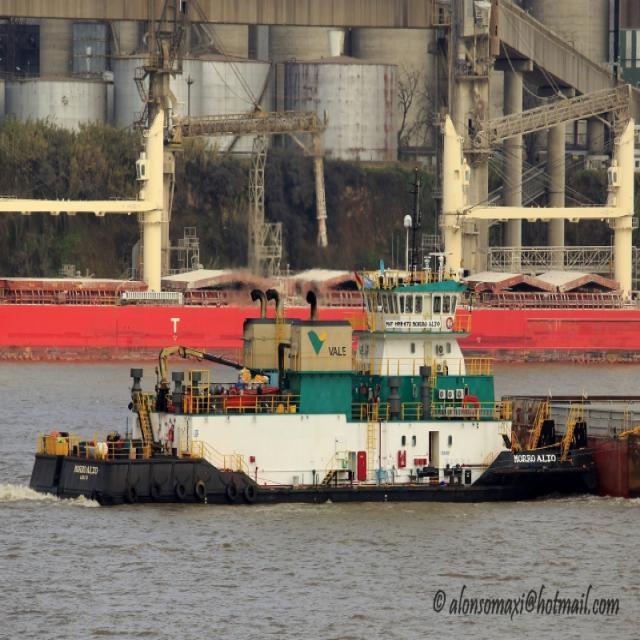tugboat: (26, 250, 603, 518)
